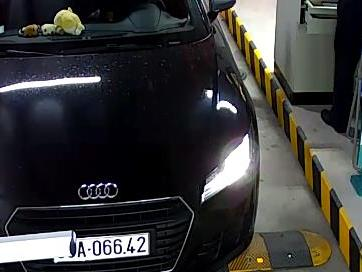number: (74, 237, 149, 258)
